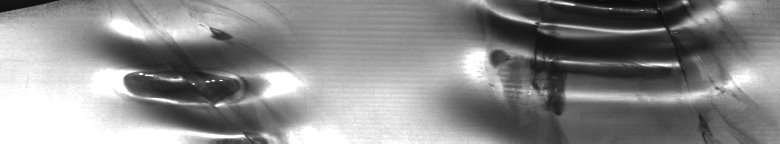ke: (465, 4, 744, 136)
